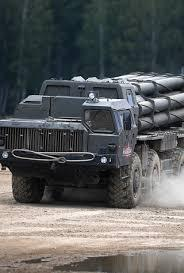MIL_SAM_TEL: (0, 62, 184, 207)
